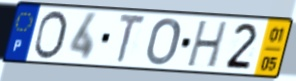2: (224, 21, 261, 72)
4: (66, 10, 99, 65)
H: (184, 19, 231, 70)
O: (31, 9, 69, 62), (144, 16, 183, 67)
T: (115, 12, 148, 66)
